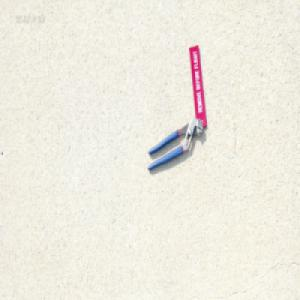Label: (186, 45, 205, 128)
Pliers: (144, 117, 201, 171)
